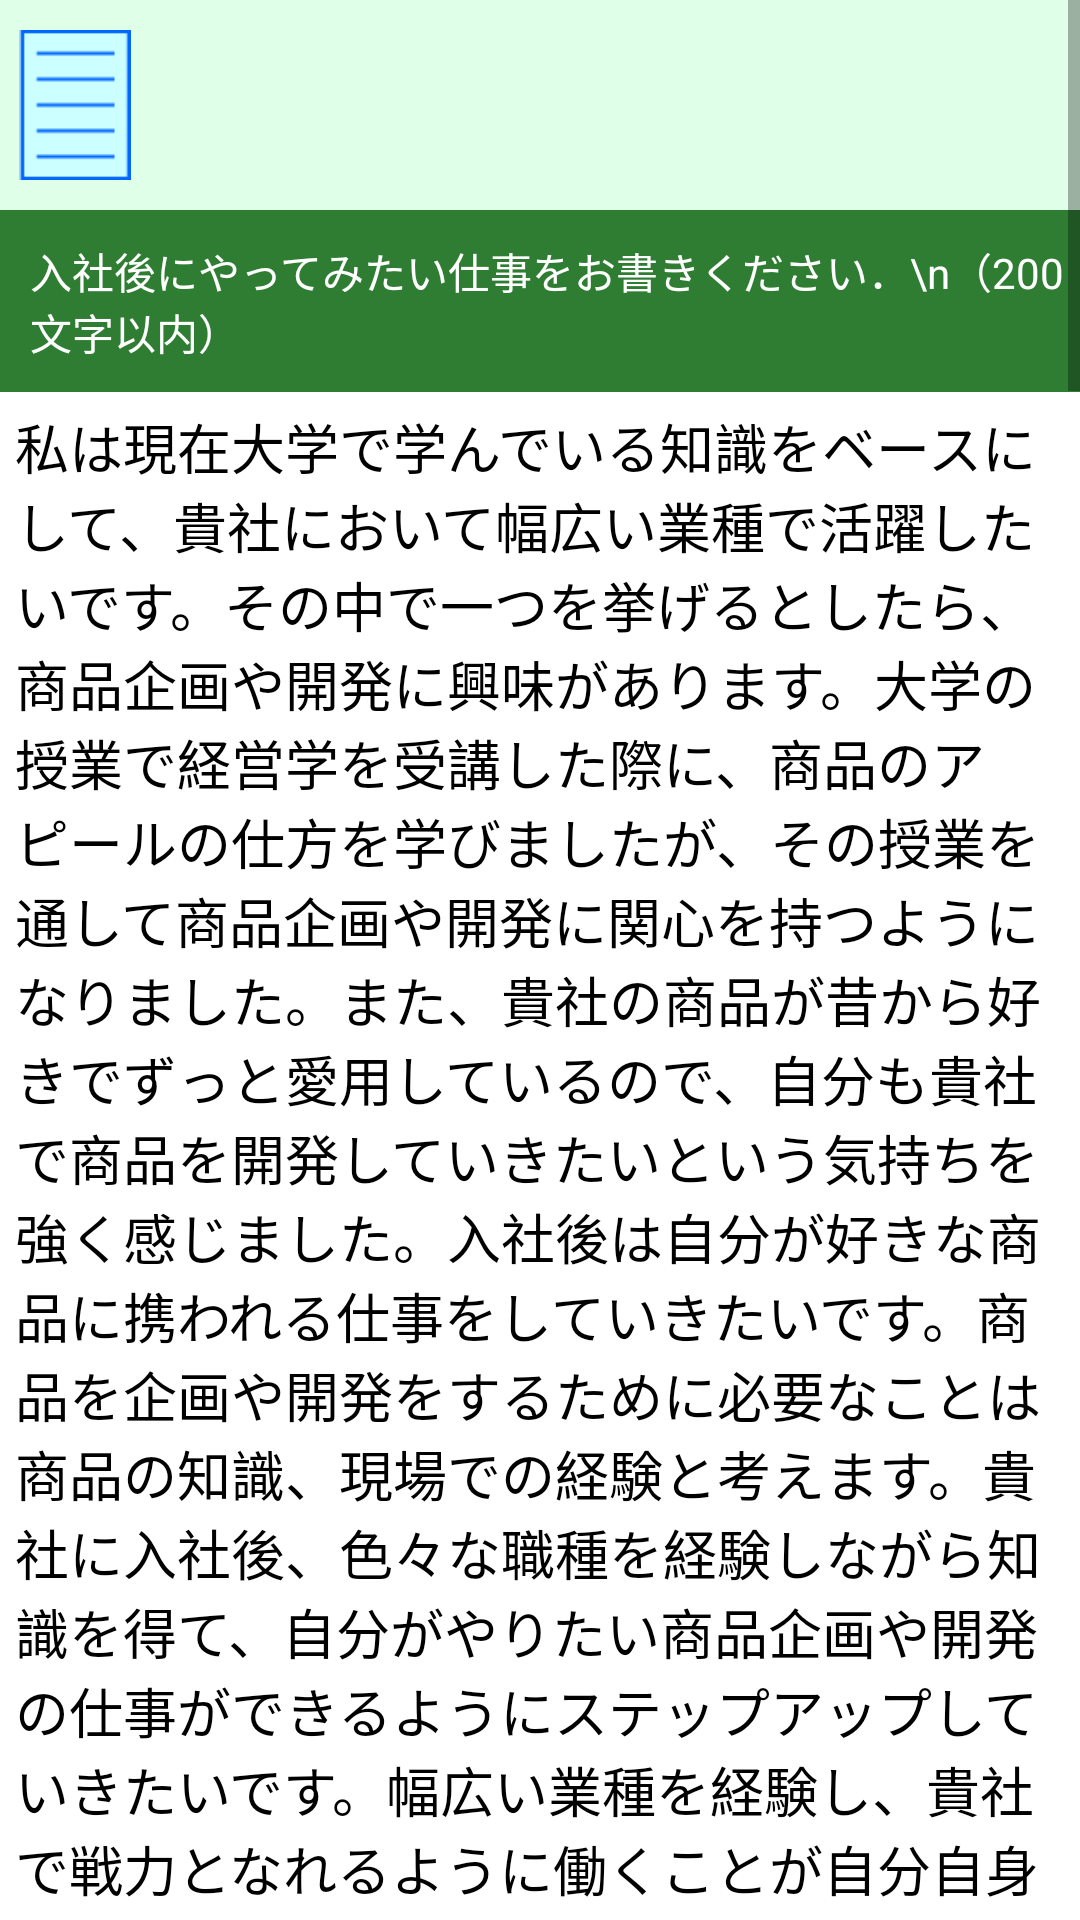

Named icons in this screenshot (1080px×1920px) and their bounding boxes, box=[x1, y1, x2, y2]:
entry sheet: box=[19, 30, 131, 180]
